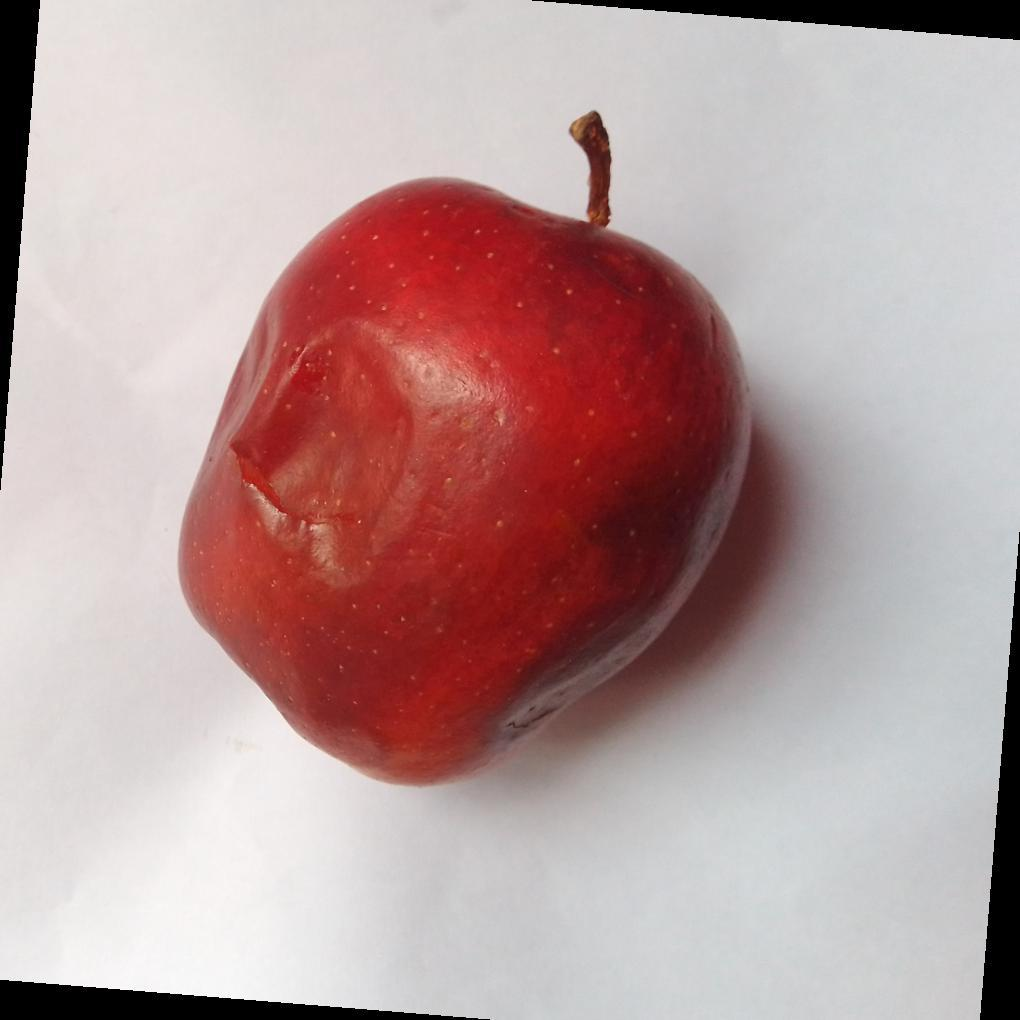FreshOrange: (176, 119, 755, 791)
